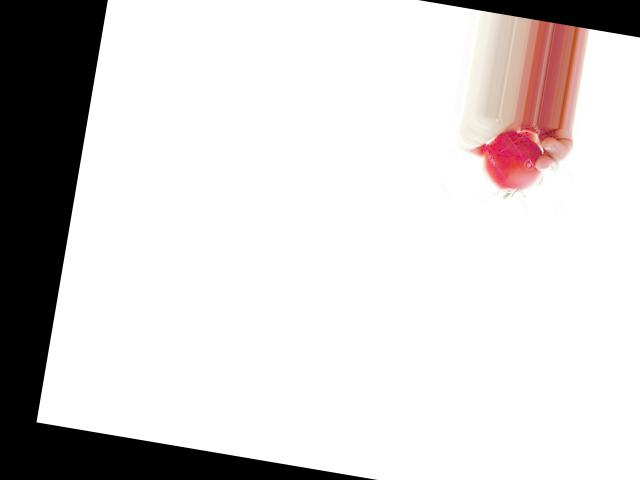tomato: (477, 127, 550, 198)
